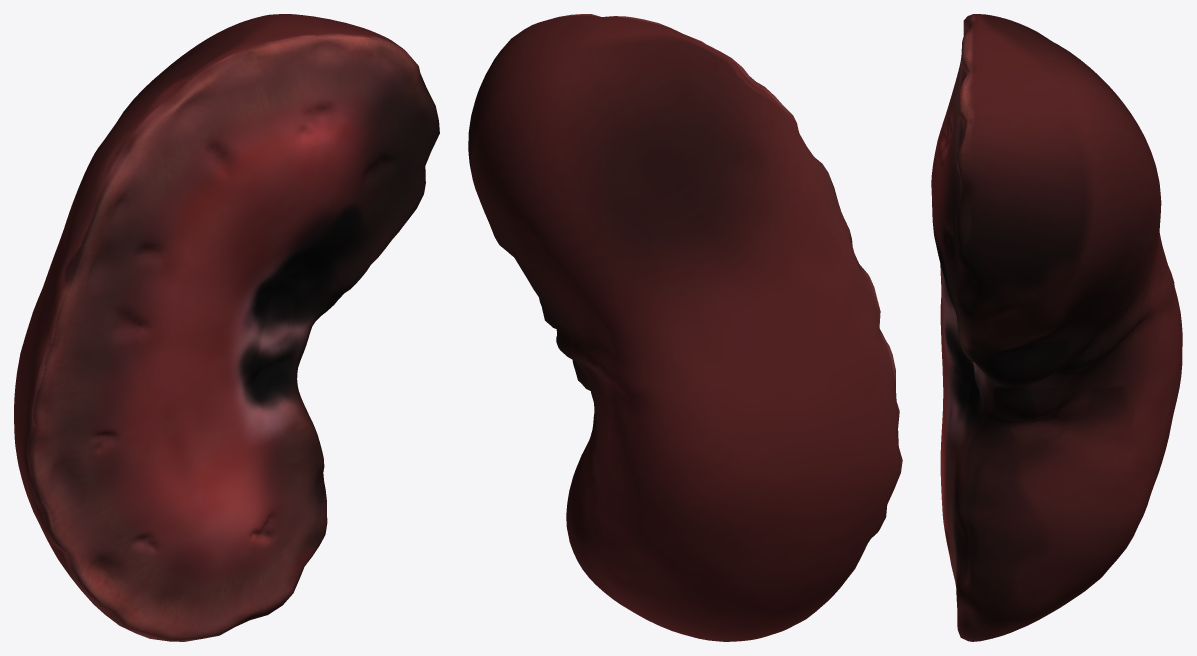
The model's file is 11_pigmented.glb.
3 renders of one model, left to right at view 1: azimuth 30°, elevation 25°; view 2: azimuth 150°, elevation 25°; view 3: azimuth 270°, elevation 25°, orthographic. The views are drawn at different scales.
Parts seen in each view (by area): view 1: ucuncubobrkobject; view 2: ucuncubobrkobject; view 3: ucuncubobrkobject.
Boxes of the visible parts, left/top/right/bottom form: ucuncubobrkobject: left=14, top=14, right=439, bottom=641; ucuncubobrkobject: left=468, top=14, right=902, bottom=641; ucuncubobrkobject: left=931, top=14, right=1182, bottom=641.
Bounding box in the file's own units: 0.5169 × 0.7038 × 0.2588.
1 material, 1 textured.
